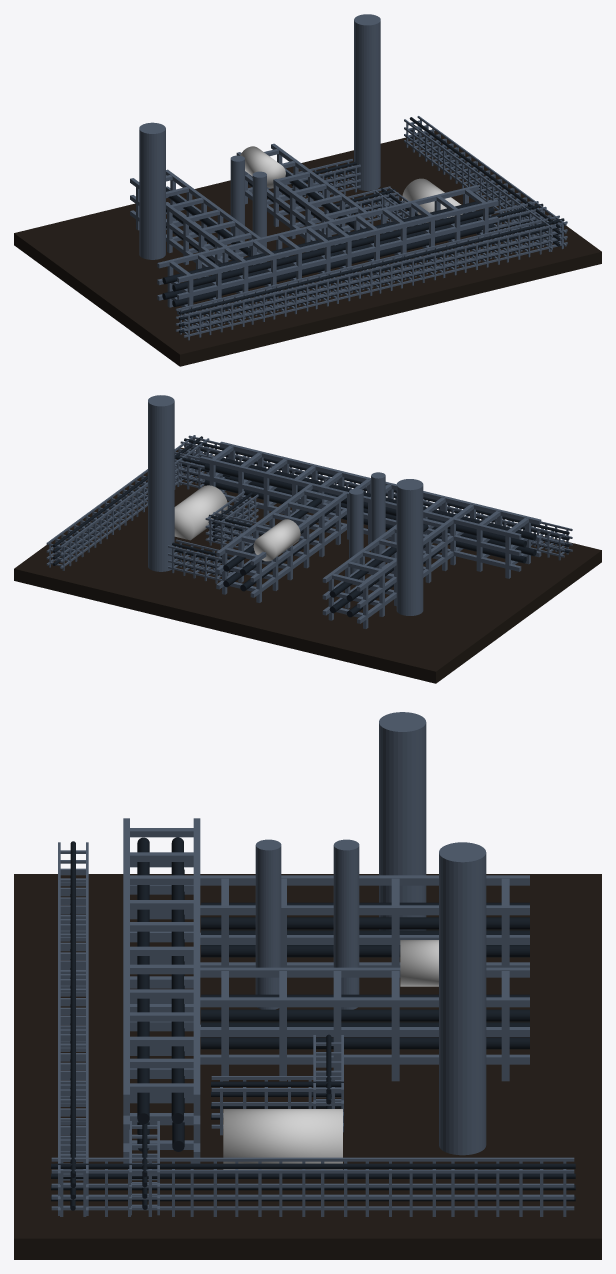
The model's file is Sales Gas & NGL Recovery.fbx.
3 renders of one model, top to bottom at view 1: azimuth 30°, elevation 25°; view 2: azimuth 150°, elevation 25°; view 3: azimuth 270°, elevation 25°, orthographic. The views are drawn at different scales.
Parts seen in each view (by area): view 1: SalesGas&NGL; view 2: SalesGas&NGL; view 3: SalesGas&NGL.
Boxes of the visible parts, x1,y1,x2,y2 form: SalesGas&NGL: (14,14,601,366); SalesGas&NGL: (14,395,601,683); SalesGas&NGL: (14,712,601,1259).
Size of the model in its own units: 99.54 by 40.03 by 67.84.
